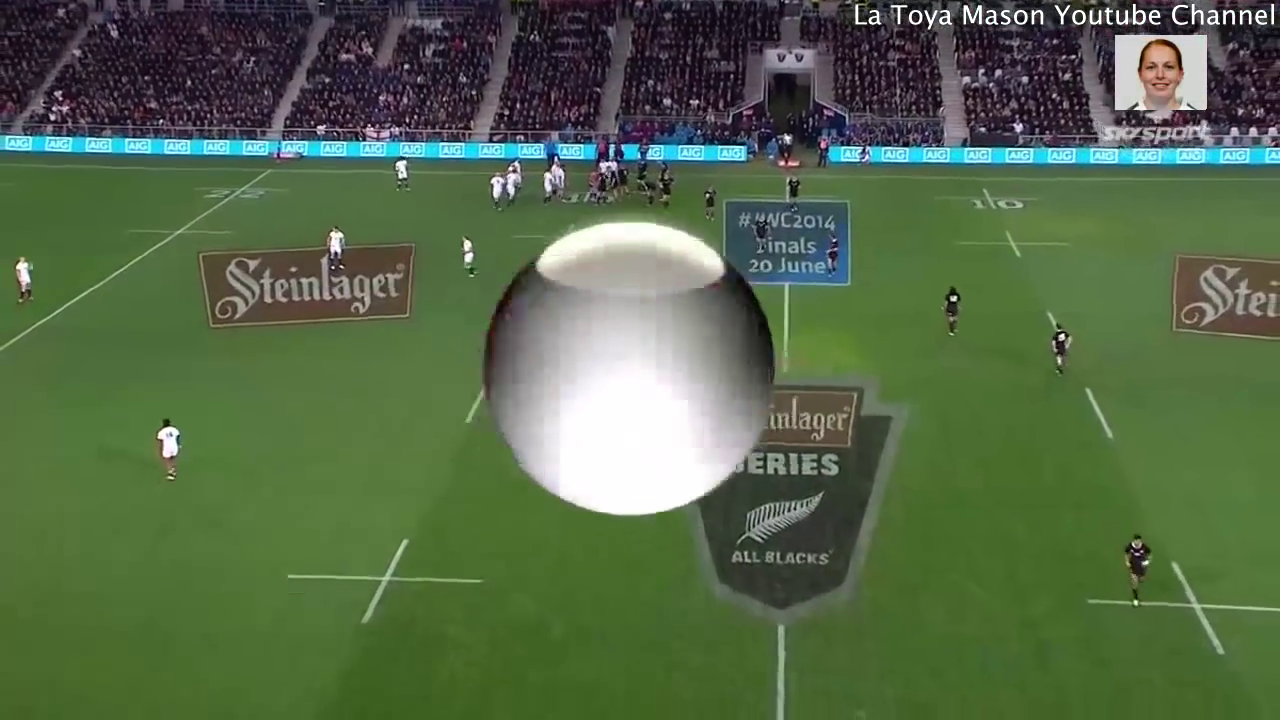10_metre: (1077, 541, 1280, 670), (278, 531, 494, 631), (953, 223, 1086, 276), (931, 180, 1053, 220)
player: (1119, 530, 1163, 626), (147, 412, 189, 494), (6, 251, 39, 313), (1044, 316, 1075, 380), (935, 276, 964, 340), (324, 222, 352, 277), (782, 171, 809, 214), (457, 233, 482, 279), (748, 213, 773, 256), (699, 183, 723, 224), (487, 169, 506, 216), (823, 228, 840, 278), (592, 169, 611, 212), (636, 177, 659, 212), (393, 153, 413, 193), (504, 164, 521, 209), (537, 167, 557, 205), (616, 163, 635, 202), (633, 155, 651, 195), (657, 174, 674, 215), (605, 162, 620, 208), (553, 163, 567, 205), (586, 167, 599, 204), (657, 157, 675, 181), (508, 156, 522, 174)
